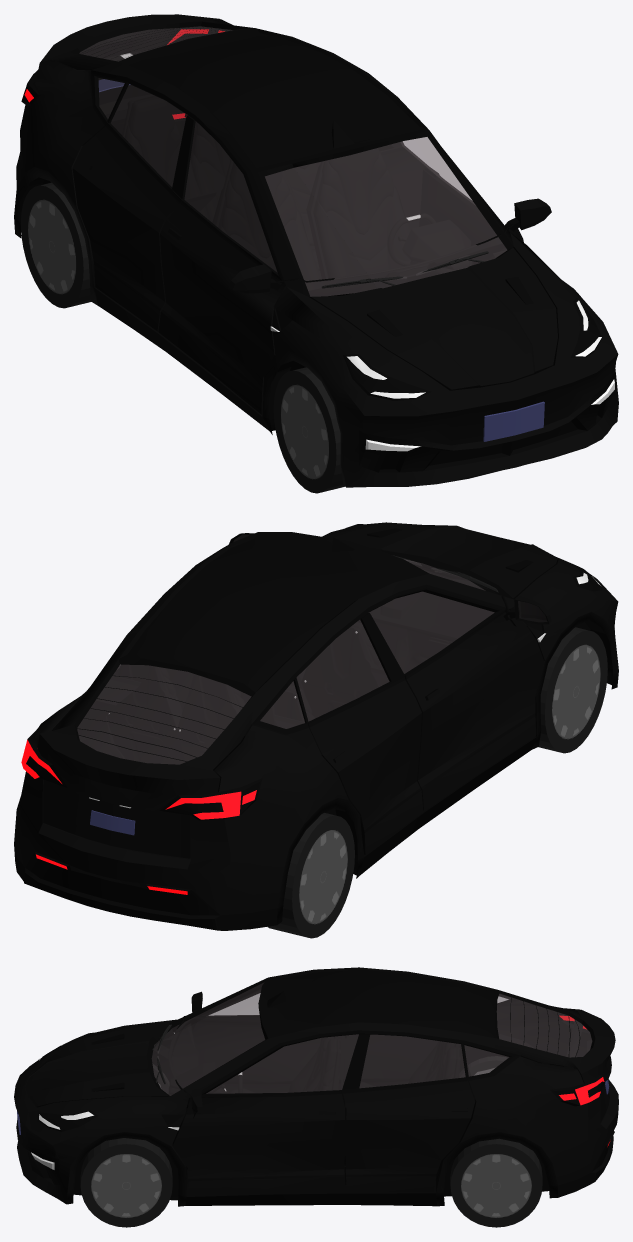
Rendered from EgoCar.fbx.
3 views of the same model, one above another, from view 1: azimuth 30°, elevation 25°; view 2: azimuth 150°, elevation 25°; view 3: azimuth 270°, elevation 25° (orthographic). The views are drawn at different scales.
Visible parts, largest first — view 1: Body, FrontRightWheel, RearRightWheel, Cluster; view 2: Body, RearRightWheel, FrontRightWheel; view 3: Body, FrontLeftWheel, RearLeftWheel, Cluster, RearRightWheel.
Part boxes in pixels (x1,y1,x2,y2): Body: (14,14,618,487); FrontRightWheel: (273,367,344,493); RearRightWheel: (20,182,90,308); Cluster: (402,220,471,269); Body: (14,522,618,930); RearRightWheel: (267,813,354,938); FrontRightWheel: (538,627,607,753); Body: (14,967,618,1206); FrontLeftWheel: (80,1138,172,1227); RearLeftWheel: (450,1138,542,1227); Cluster: (169,1062,215,1093); RearRightWheel: (459,1056,507,1077).
Size of the model in its own units: 216 by 165 by 481.
Materials: 24 (4 with a texture image).
